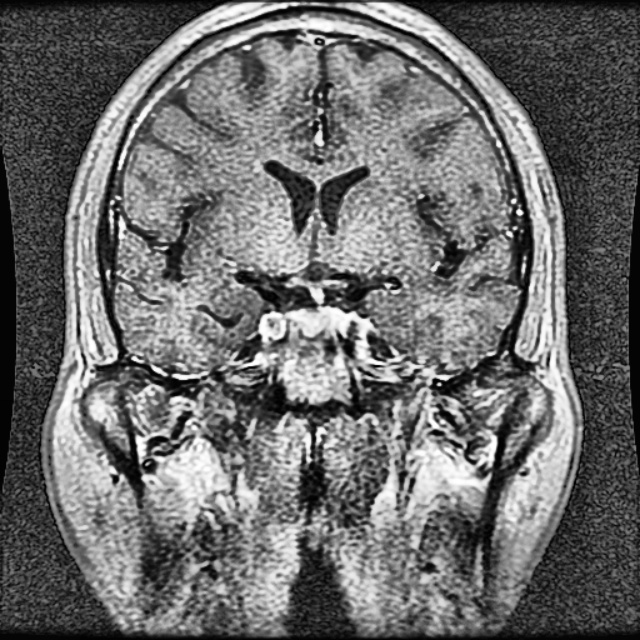Pituitary: (289, 308, 333, 333)
